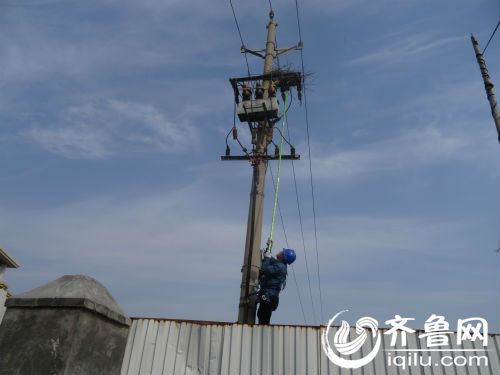bird-nest: (270, 69, 306, 87)
